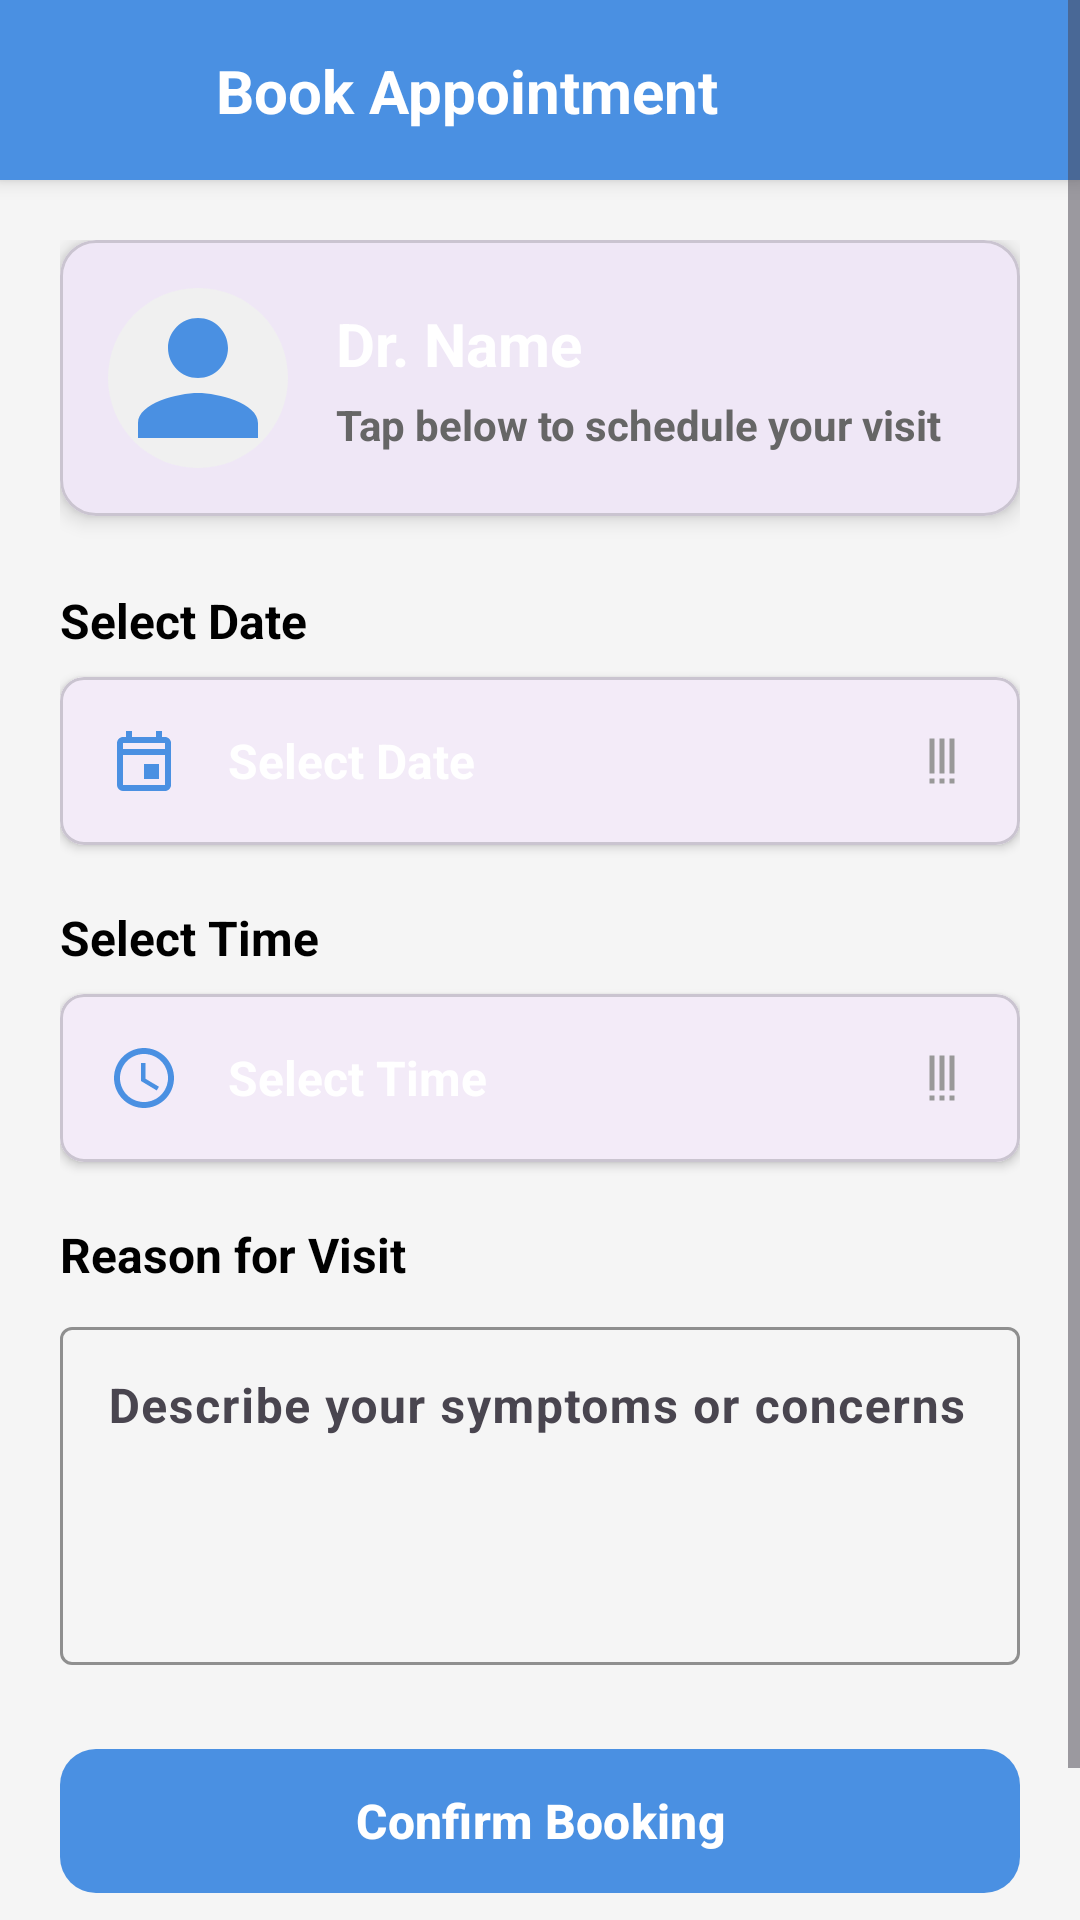

Icons on this 1080 × 1920 Android screen, each with its box as [left=x1, top=y1, right=x2, bottom=y2]:
calendar: [left=117, top=731, right=171, bottom=791]
clock: [left=114, top=1048, right=174, bottom=1108]
